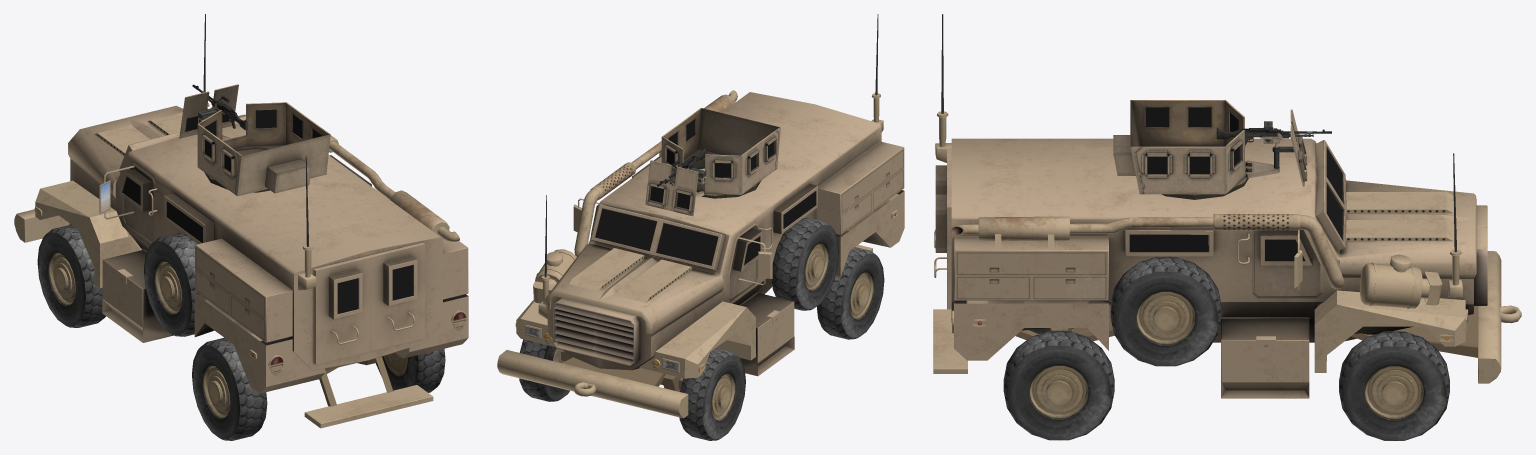
File: mrap_cougar4x4_veh.fbx
The picture shows the model from 3 angles, left to right: view 1: azimuth 30°, elevation 25°; view 2: azimuth 150°, elevation 25°; view 3: azimuth 270°, elevation 25°; orthographic projection. The views are drawn at different scales.
Visible parts, largest first — view 1: body_1, turret_1, back_driver_wheel_1, front_driver_wheel_1, driver_back_door_1, passenger_back_door_1, spare01_1, driver_door_1, back_passenger_wheel_1, passenger_side_rear_window01_1, passenger_side_rear_window02_1, m240_1 (+1 smaller); view 2: body_1, turret_1, spare01_1, front_driver_wheel_1, back_driver_wheel_1, windshield_1, driver_door_1, front_passenger_wheel_1, driver_side_back_window_1, m240_1; view 3: body_1, turret_1, spare_1, back_passenger_wheel_1, front_passenger_wheel_1, passenger_door_1, passenger_side_back_window_1, passenger_back_door_1, windshield_1, m240_1, passenger_side_window01_1.
Part boxes in pixels (left/top/right/bottom): body_1: left=14, top=14, right=468, bottom=428; turret_1: left=179, top=84, right=330, bottom=196; back_driver_wheel_1: left=192, top=337, right=267, bottom=440; front_driver_wheel_1: left=37, top=224, right=105, bottom=327; driver_back_door_1: left=313, top=256, right=370, bottom=364; passenger_back_door_1: left=369, top=242, right=425, bottom=350; spare01_1: left=143, top=233, right=197, bottom=336; driver_door_1: left=99, top=165, right=153, bottom=242; back_passenger_wheel_1: left=375, top=348, right=445, bottom=392; passenger_side_rear_window01_1: left=392, top=265, right=413, bottom=300; passenger_side_rear_window02_1: left=337, top=278, right=358, bottom=313; m240_1: left=192, top=84, right=247, bottom=130; body_1: left=497, top=14, right=904, bottom=418; turret_1: left=645, top=108, right=780, bottom=216; spare01_1: left=771, top=217, right=839, bottom=310; front_driver_wheel_1: left=679, top=348, right=745, bottom=440; back_driver_wheel_1: left=817, top=247, right=884, bottom=339; windshield_1: left=595, top=209, right=718, bottom=265; driver_door_1: left=730, top=225, right=772, bottom=299; front_passenger_wheel_1: left=519, top=339, right=569, bottom=401; driver_side_back_window_1: left=783, top=191, right=816, bottom=228; m240_1: left=657, top=147, right=706, bottom=186; body_1: left=933, top=14, right=1521, bottom=398; turret_1: left=1113, top=100, right=1307, bottom=199; spare_1: left=1110, top=256, right=1221, bottom=366; back_passenger_wheel_1: left=1003, top=330, right=1114, bottom=440; front_passenger_wheel_1: left=1339, top=331, right=1449, bottom=440; passenger_door_1: left=1254, top=229, right=1320, bottom=295; passenger_side_back_window_1: left=1129, top=234, right=1208, bottom=252; passenger_back_door_1: left=934, top=178, right=951, bottom=309; windshield_1: left=1326, top=148, right=1342, bottom=239; m240_1: left=1216, top=121, right=1331, bottom=146; passenger_side_window01_1: left=1265, top=239, right=1305, bottom=260.
Size of the model in its own units: 2.99 by 4.03 by 6.34.
